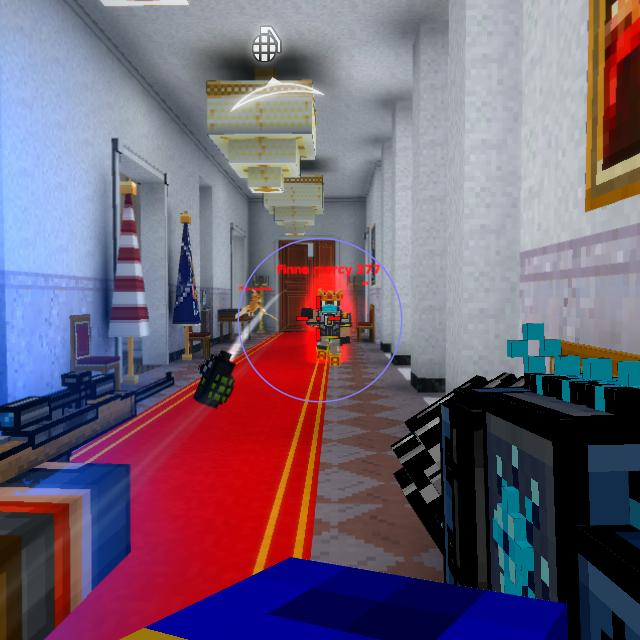Enemy: (301, 293, 352, 367)
